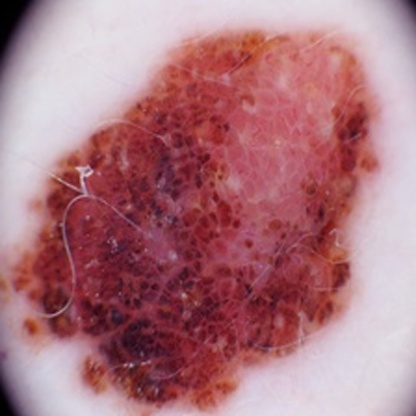benign: (41, 82, 361, 368)
